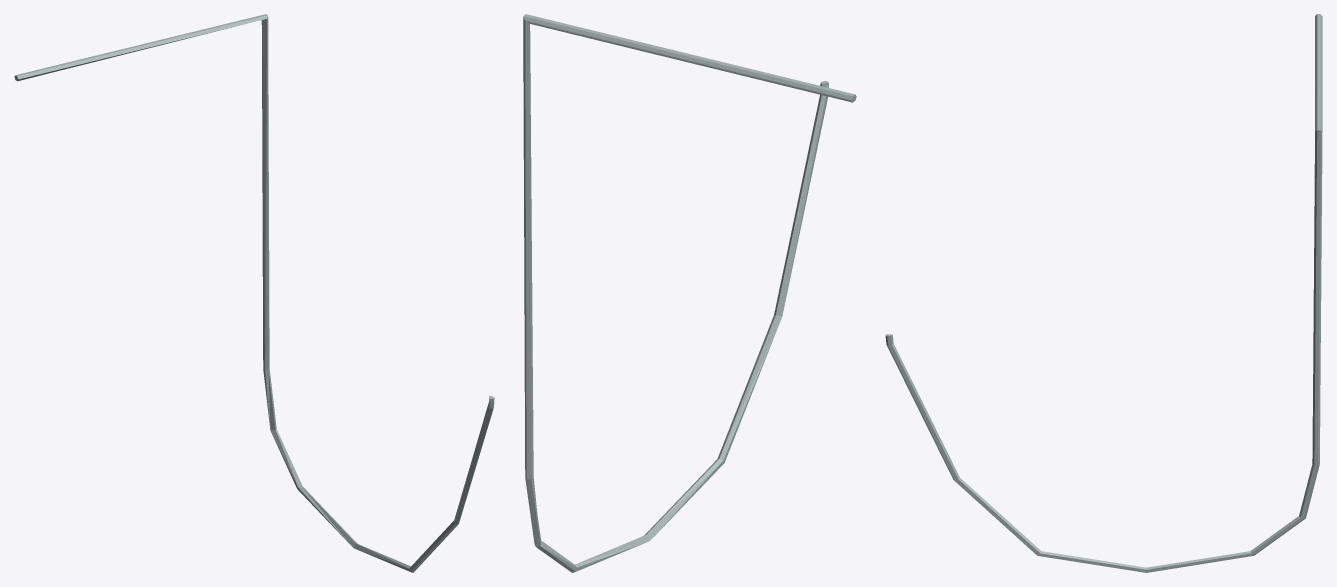
The model's file is xt122-geode.glb.
The picture shows the model from 3 angles, left to right: view 1: azimuth 30°, elevation 25°; view 2: azimuth 150°, elevation 25°; view 3: azimuth 270°, elevation 25°; orthographic projection. The views are drawn at different scales.
Visible parts, largest first — view 1: Node; view 2: Node; view 3: Node.
Boxes of the visible parts, x1=… form: Node: x1=14, y1=14, x2=494, y2=572; Node: x1=523, y1=14, x2=856, y2=572; Node: x1=885, y1=14, x2=1322, y2=572.
Bounding box in the file's own units: 0.2806 × 0.4994 × 0.4457.
1 material, 1 textured.
